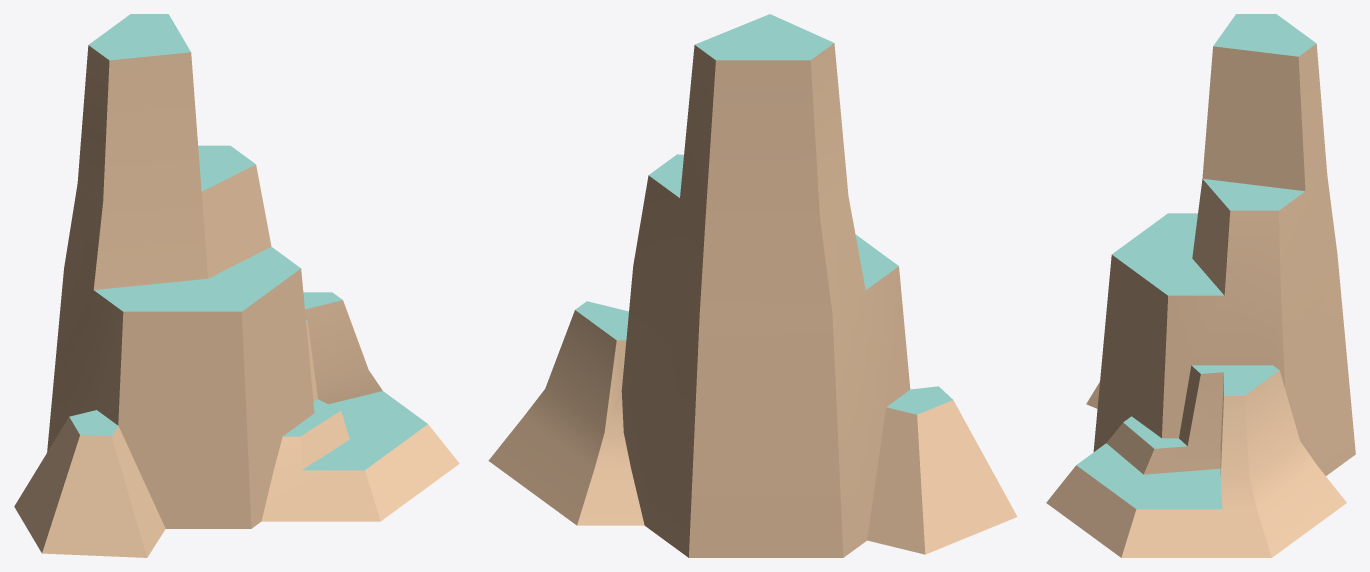
File: rock_tall1.glb
The picture shows the model from 3 angles, left to right: view 1: azimuth 30°, elevation 25°; view 2: azimuth 150°, elevation 25°; view 3: azimuth 270°, elevation 25°; orthographic projection. The views are drawn at different scales.
Parts seen in each view (by area): view 1: rock_tall1; view 2: rock_tall1; view 3: rock_tall1.
Boxes of the visible parts, <box> form: rock_tall1: <box>14,14,459,557</box>; rock_tall1: <box>488,14,1017,557</box>; rock_tall1: <box>1046,14,1355,557</box>.
Bounding box in the file's own units: 0.9831 × 0.9959 × 0.6832.
